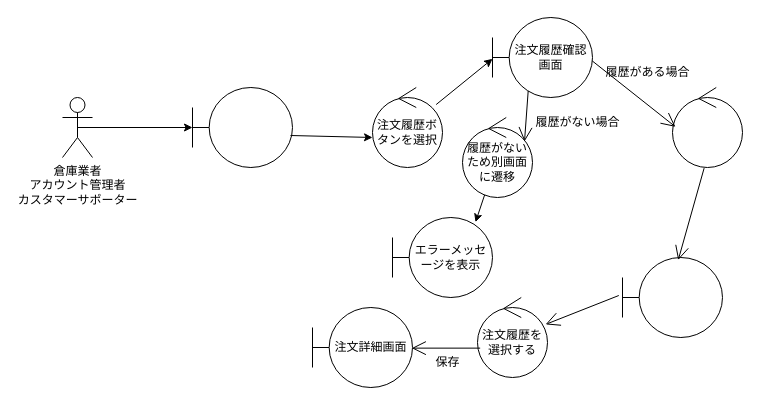
Image size: 760x405. Some labels were removed from this diagram. Here are the shapes that lost their labels. From the top down, the centre of each, then its label:
At point 242,127: "メニュー画面".
At point 707,127: "検索欄に条件を入力".
At point 672,297: "条件の合致した画面".
